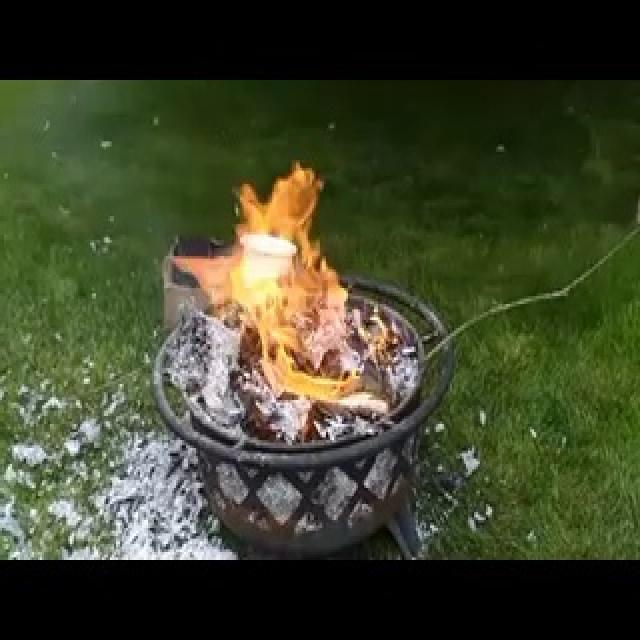fire: (119, 150, 411, 420)
